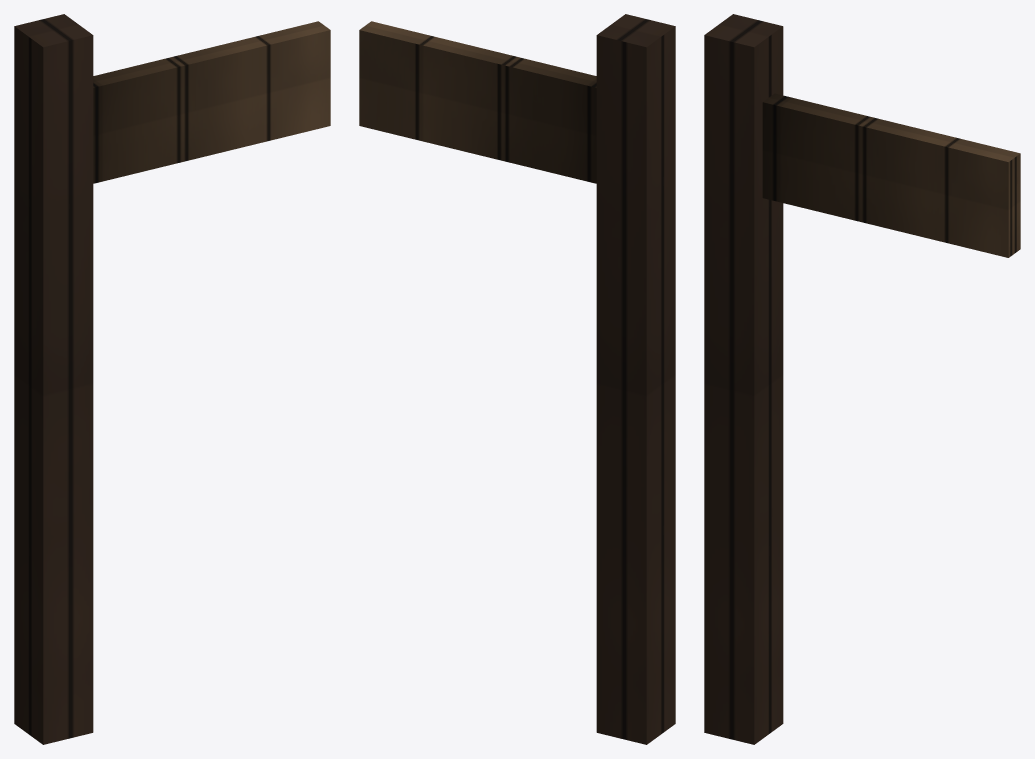
Rendered from signpost.glb.
3 views of the same model, side by side, from view 1: azimuth 30°, elevation 25°; view 2: azimuth 150°, elevation 25°; view 3: azimuth 330°, elevation 25° (orthographic).
Parts seen in each view (by area): view 1: signpost; view 2: signpost; view 3: signpost.
Boxes of the visible parts, x1,y1,x2,y2 form: signpost: (14, 14, 330, 744); signpost: (359, 14, 675, 744); signpost: (704, 14, 1020, 744).
Size of the model in its own units: 0.71 by 1.6 by 0.12.
2 materials, 2 textured.
